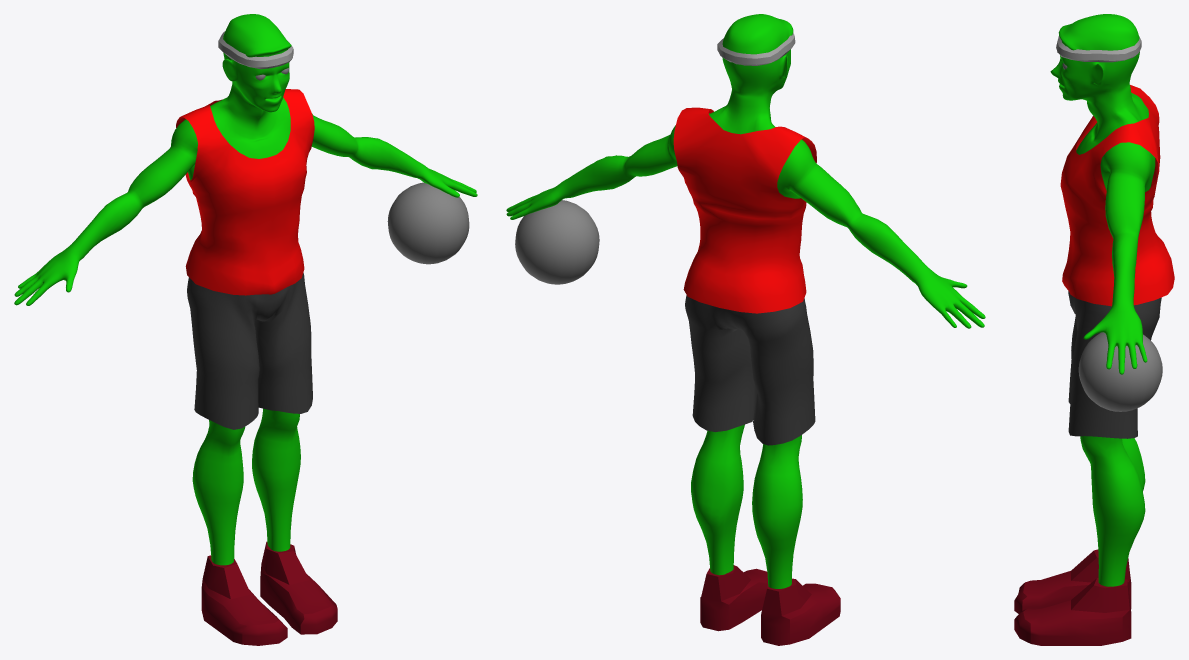
The model's file is BasketballPlayerSkinCOMPLETE.obj.
The picture shows the model from 3 angles, left to right: view 1: azimuth 30°, elevation 25°; view 2: azimuth 150°, elevation 25°; view 3: azimuth 270°, elevation 25°; orthographic projection. The views are drawn at different scales.
Parts seen in each view (by area): view 1: GenericMesh1, GenericMesh4, GenericMesh5, pSphere3, pCube2 pCube1, pCube3, pPipe1; view 2: GenericMesh1, GenericMesh4, GenericMesh5, pSphere3, pCube2 pCube1, pCube3, pPipe1; view 3: GenericMesh1, GenericMesh4, pCube3, GenericMesh5, pSphere3, pCube2 pCube1, pPipe1.
Boxes of the visible parts, x1,y1,x2,y2 form: GenericMesh1: (14,14,477,565); GenericMesh4: (176,89,314,295); GenericMesh5: (187,273,312,429); pSphere3: (387,182,469,264); pCube2 pCube1: (201,555,287,645); pCube3: (260,541,337,634); pPipe1: (218,31,293,69); GenericMesh1: (506,14,985,588); GenericMesh4: (673,107,816,313); GenericMesh5: (685,295,815,445); pSphere3: (515,200,599,284); pCube2 pCube1: (761,578,840,645); pCube3: (700,565,767,631); pPipe1: (717,33,795,65); GenericMesh1: (1050,14,1155,586); GenericMesh4: (1060,85,1174,306); pCube3: (1014,578,1131,645); GenericMesh5: (1068,291,1161,438); pSphere3: (1078,332,1162,411); pCube2 pCube1: (1014,549,1131,613); pPipe1: (1056,36,1141,62).
Size of the model in its own units: 29.33 by 35.68 by 8.62.
